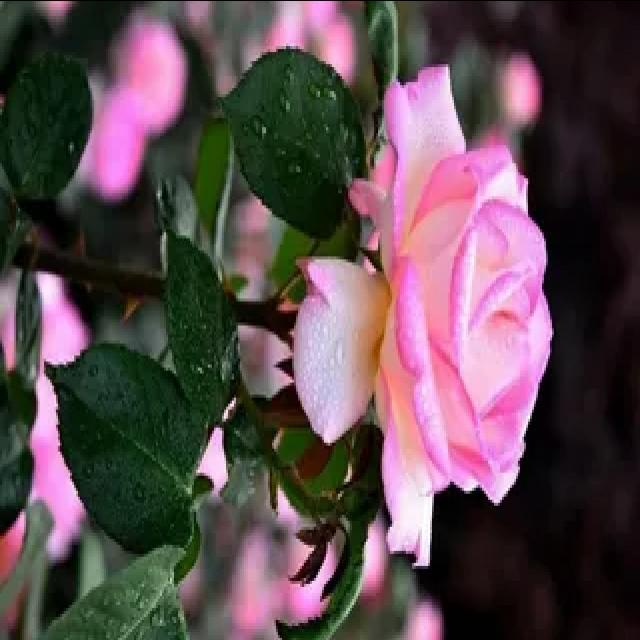rose: (286, 44, 576, 577)
